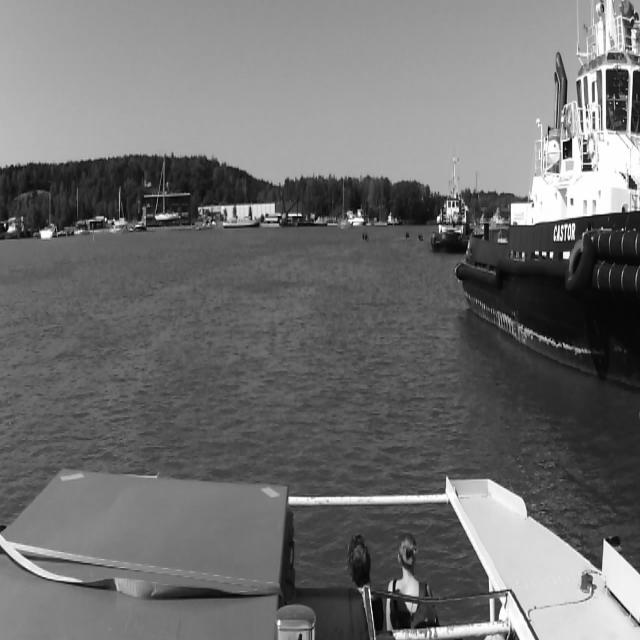ship: (455, 0, 640, 394), (430, 156, 470, 252), (153, 156, 181, 220), (348, 214, 364, 228), (134, 220, 146, 232), (418, 233, 424, 242), (404, 231, 410, 240), (362, 233, 368, 242)
